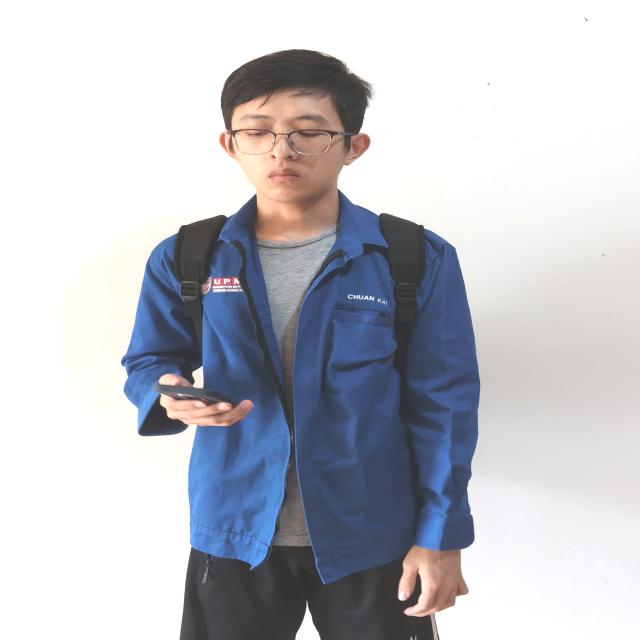person_with_labcoat: (122, 50, 479, 640)
